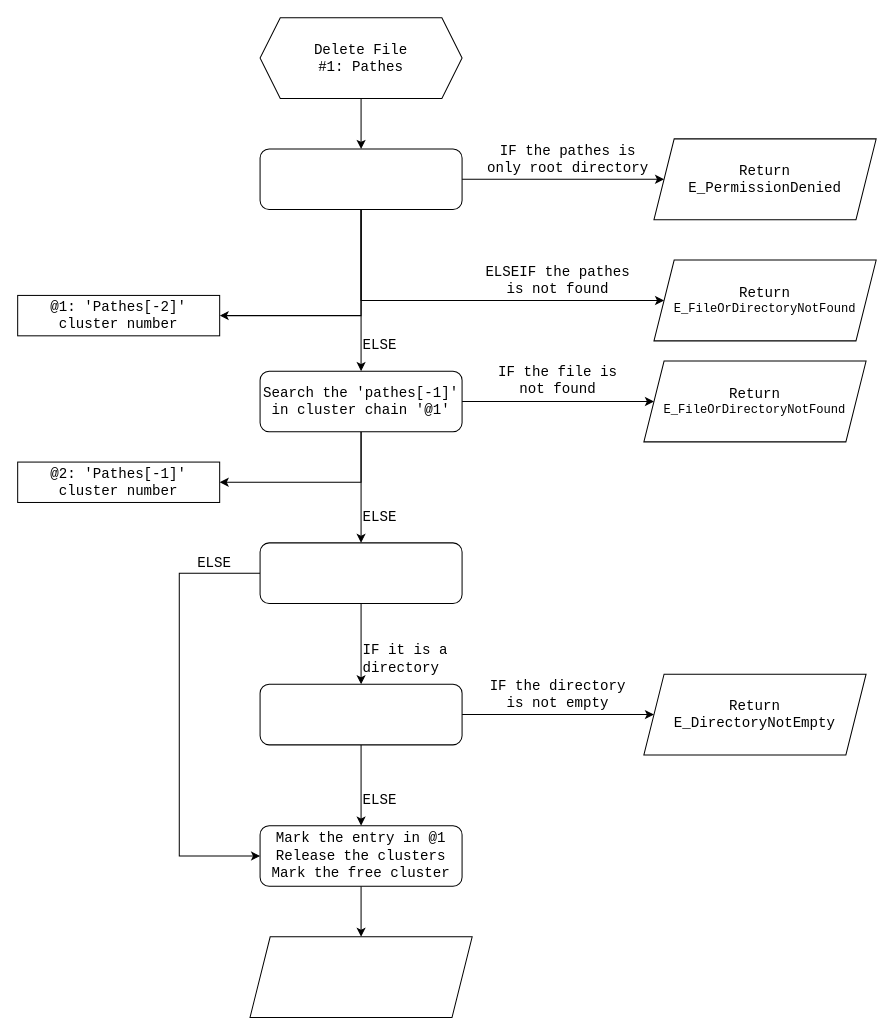
This 894x1035 diagram has some shape labels left out. The shapes that lost their labels are listed below. From the top down, each one's box as (x1, y1, x2, y2) in pixels, then its label:
(259, 148, 462, 210): Search the 'pathes[:-1]'
(259, 542, 462, 603): Check the type of @2
(259, 683, 462, 745): Check directory entry in cluster chain of @2
(249, 936, 472, 1018): Return as success
